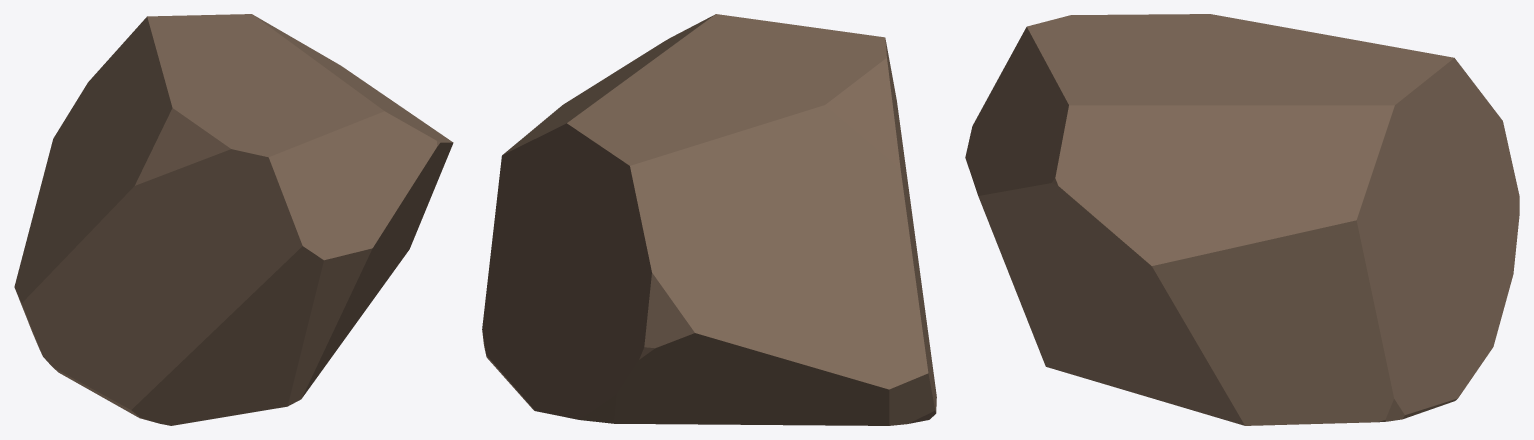
File: ForestRock1.fbx
3 renders of one model, left to right at view 1: azimuth 30°, elevation 25°; view 2: azimuth 150°, elevation 25°; view 3: azimuth 270°, elevation 25°, orthographic. The views are drawn at different scales.
Parts seen in each view (by area): view 1: ForestRock1; view 2: ForestRock1; view 3: ForestRock1.
Boxes of the visible parts, x1,y1,x2,y2 form: ForestRock1: (14,14,453,425); ForestRock1: (482,14,936,425); ForestRock1: (965,14,1519,425).
Size of the model in its own units: 128 by 91.58 by 132.
